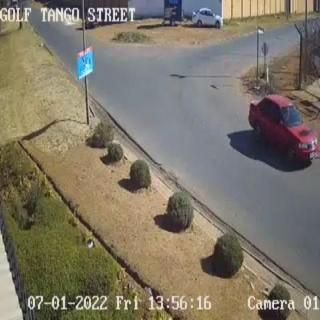car: (248, 94, 318, 164), (190, 9, 222, 27)
